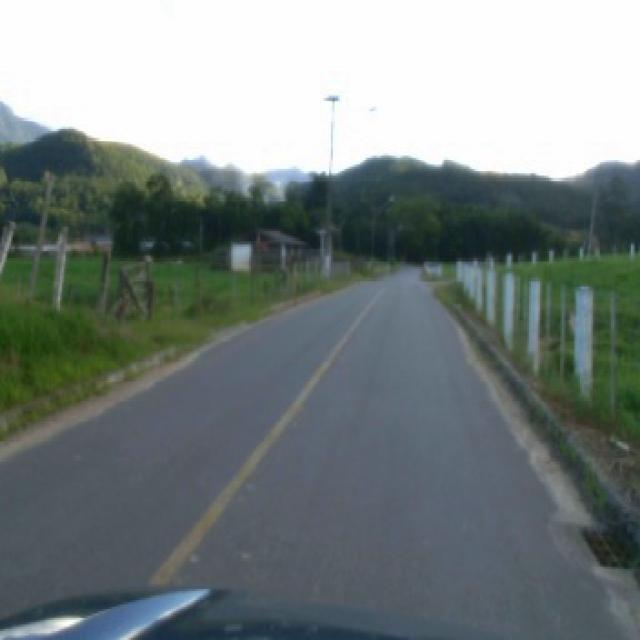Poth-hole: (572, 513, 636, 569)
